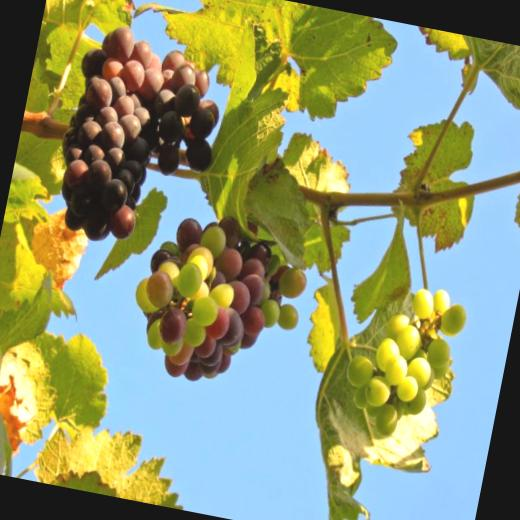Orange: (45, 18, 233, 260), (120, 200, 317, 399), (335, 272, 472, 448)
